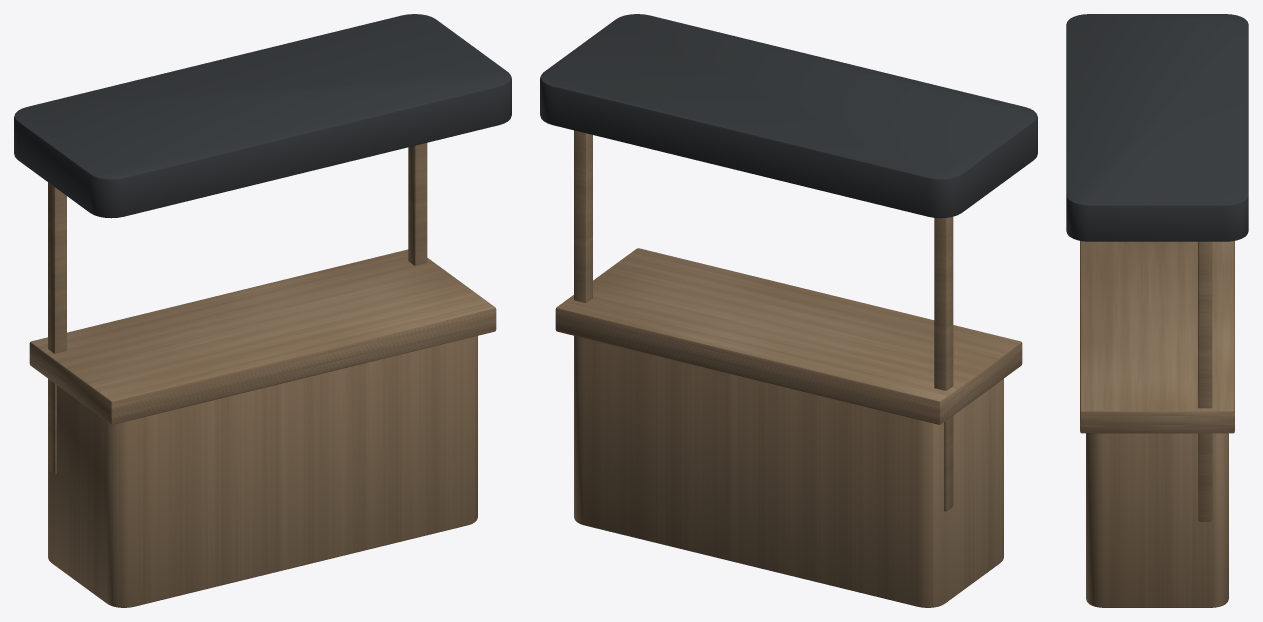
File: bag_drop_station_premium.glb
3 views of the same model, side by side, from view 1: azimuth 30°, elevation 25°; view 2: azimuth 150°, elevation 25°; view 3: azimuth 270°, elevation 25° (orthographic). The views are drawn at different scales.
Visible parts, largest first — view 1: BagDrop_Counter, BagDrop_Canopy, BagDrop_ServiceTop, BagDrop_CanopyPost_L, BagDrop_CanopyPost_R; view 2: BagDrop_Counter, BagDrop_Canopy, BagDrop_ServiceTop, BagDrop_CanopyPost_L, BagDrop_CanopyPost_R; view 3: BagDrop_Canopy, BagDrop_ServiceTop, BagDrop_Counter, BagDrop_CanopyPost_R.
Part boxes in pixels (x1,y1,x2,y2): BagDrop_Counter: (48,336,477,607); BagDrop_Canopy: (14,14,511,218); BagDrop_ServiceTop: (29,249,496,424); BagDrop_CanopyPost_L: (48,182,66,474); BagDrop_CanopyPost_R: (408,143,427,265); BagDrop_Counter: (574,336,1003,607); BagDrop_Canopy: (540,14,1037,218); BagDrop_ServiceTop: (555,248,1022,424); BagDrop_CanopyPost_L: (934,217,953,511); BagDrop_CanopyPost_R: (574,130,592,302); BagDrop_Canopy: (1066,14,1248,241); BagDrop_ServiceTop: (1080,241,1234,433); BagDrop_Counter: (1086,433,1228,607); BagDrop_CanopyPost_R: (1198,241,1212,521).
Size of what is drawn, in the model's own units: 1.92 by 1.94 by 0.7728.
2 materials, 1 textured.
